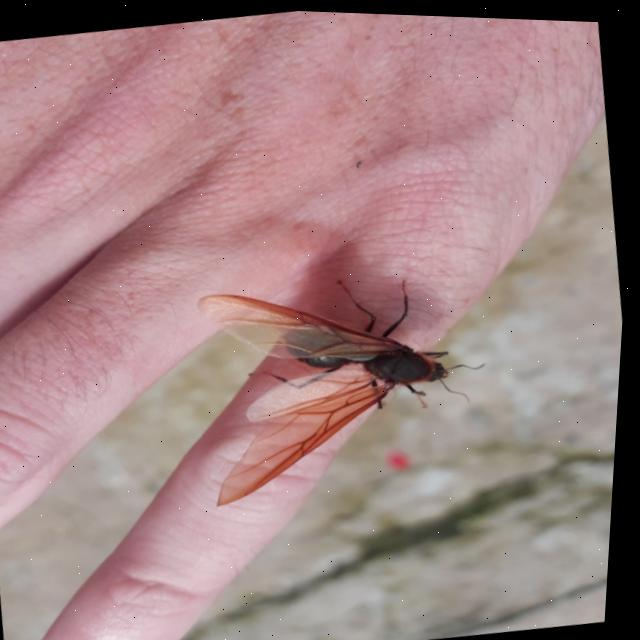Alive-Male-Alate: (188, 252, 511, 513)
